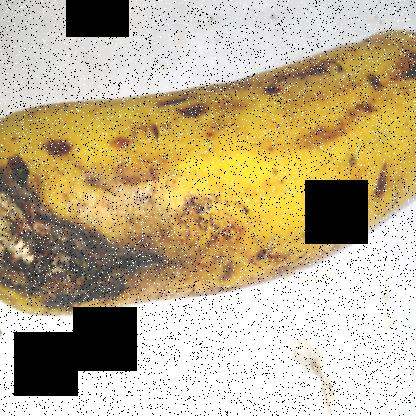ripe: (152, 1, 415, 346)
rotten: (0, 90, 186, 373)
